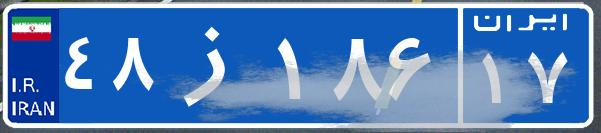1: (273, 28, 330, 110), (475, 38, 525, 113)
4: (57, 26, 110, 107)
6: (385, 28, 445, 110)
7: (525, 38, 570, 115)
8: (330, 28, 385, 110), (110, 28, 158, 105)
ز: (158, 15, 273, 115)
